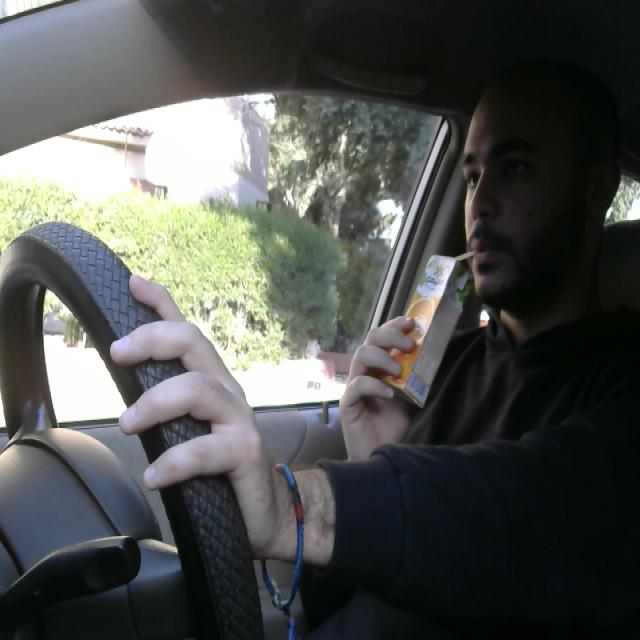drinking: (378, 237, 476, 406)
